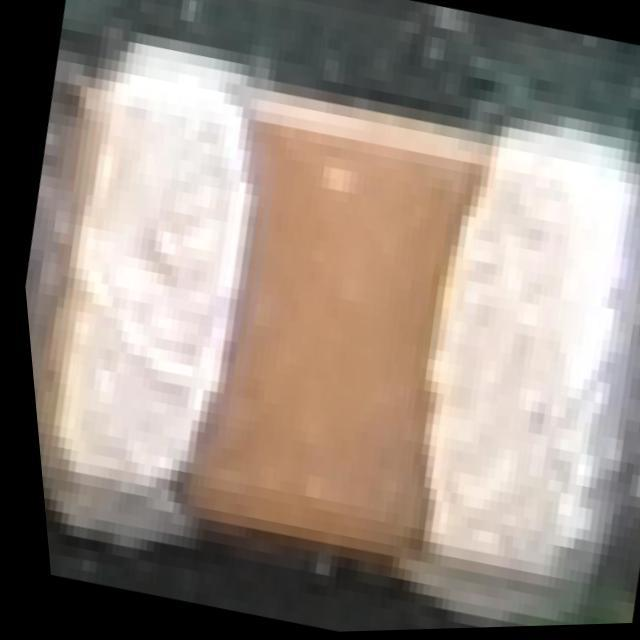Capacitor: (3, 31, 640, 612)
